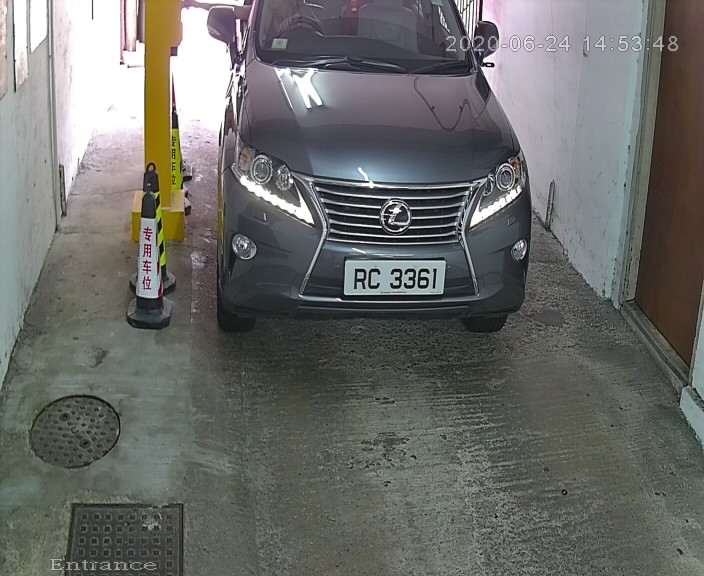Car: (190, 1, 546, 356)
License Plate: (337, 252, 453, 304)
